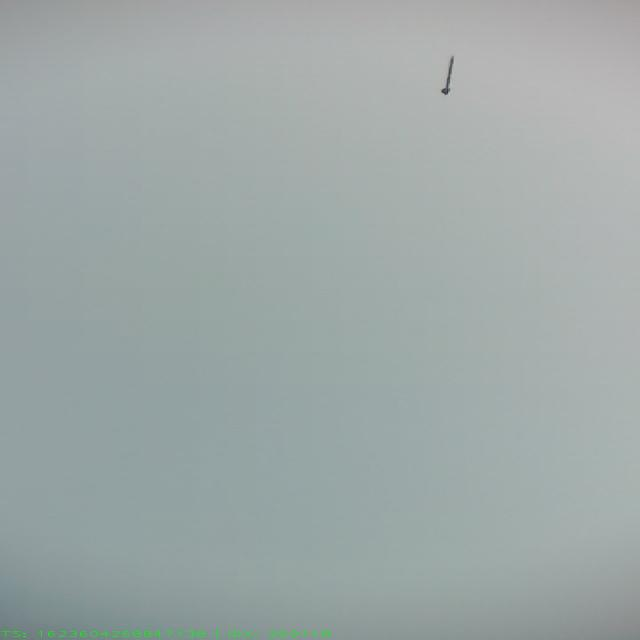Rocket: (441, 56, 454, 96)
